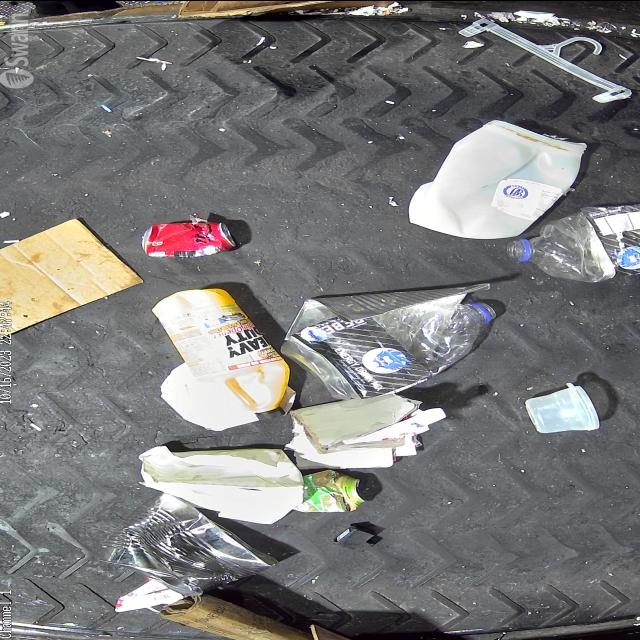can: (99, 488, 277, 594), (141, 220, 235, 257), (298, 468, 366, 512)
milk_jug: (410, 118, 587, 238)
non_white_jug: (150, 286, 290, 418)
plastic_bottle: (278, 300, 496, 400), (506, 208, 640, 282)
